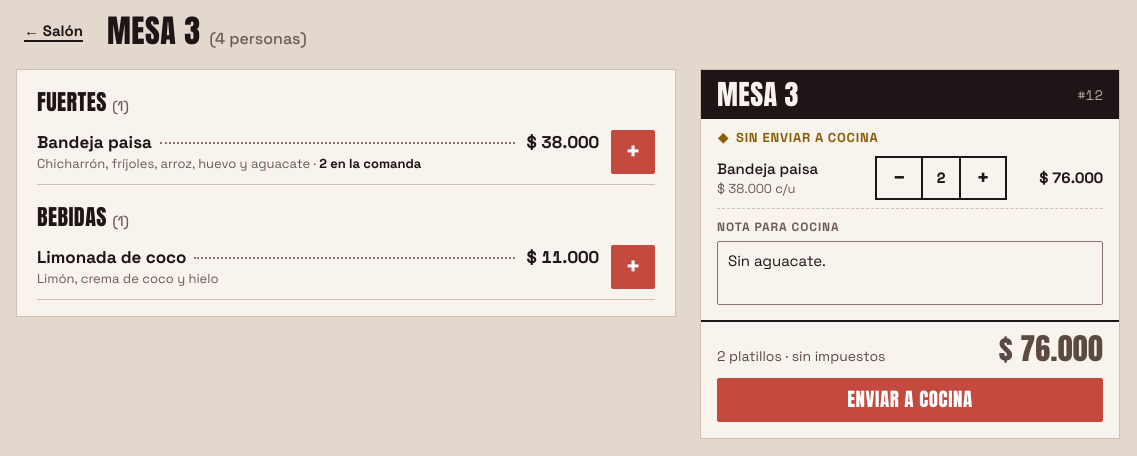
TomaPedido › un platillo agotado avisa y la carta se vuelve a pedir
Click the button named "Agregar Limonada de coco".
click(633, 267)  # box [611,245,655,289]
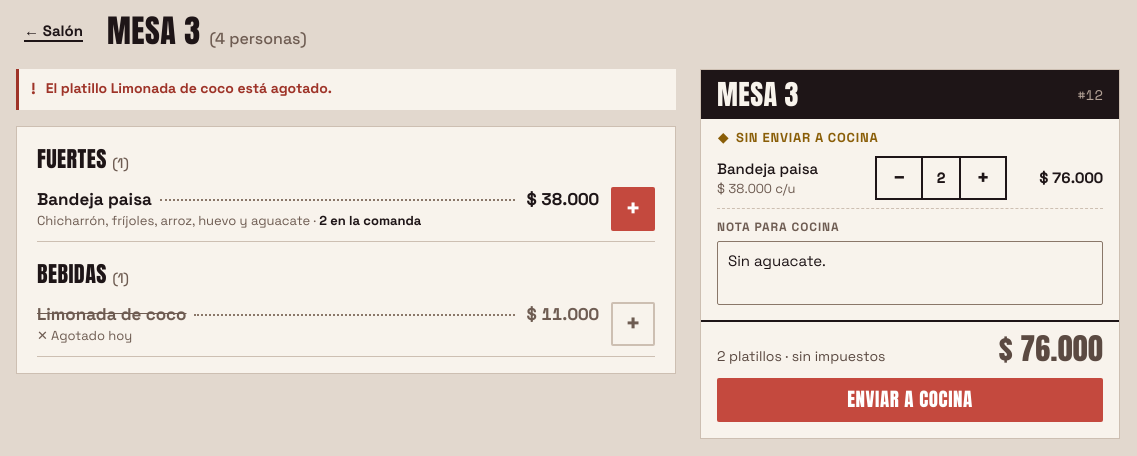
Now the text "El platillo Limonada de coco está agotado." is shown, box [46,79,332,97]
Now the text "✕ Agotado hoy" is shown, box [37,327,132,344]
